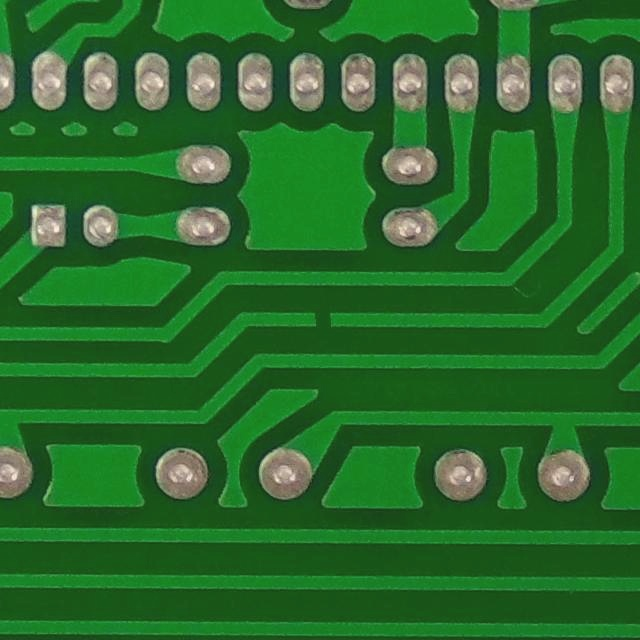open_circuit: (302, 300, 338, 340)
